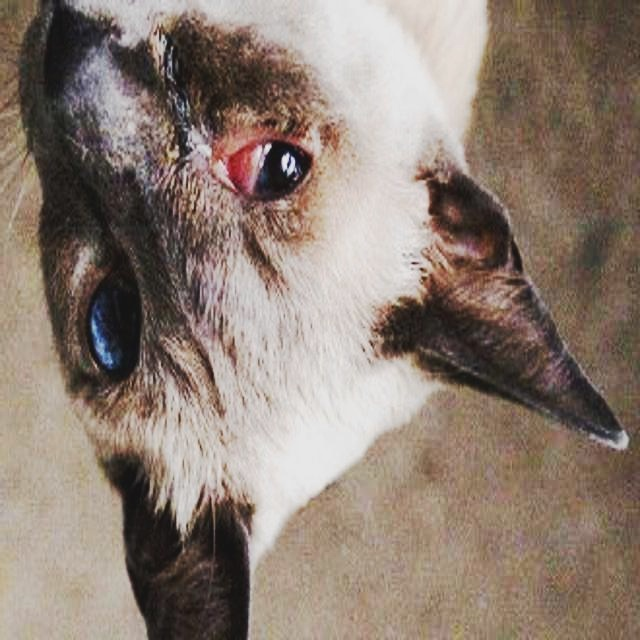eye_infection: (209, 142, 320, 199)
